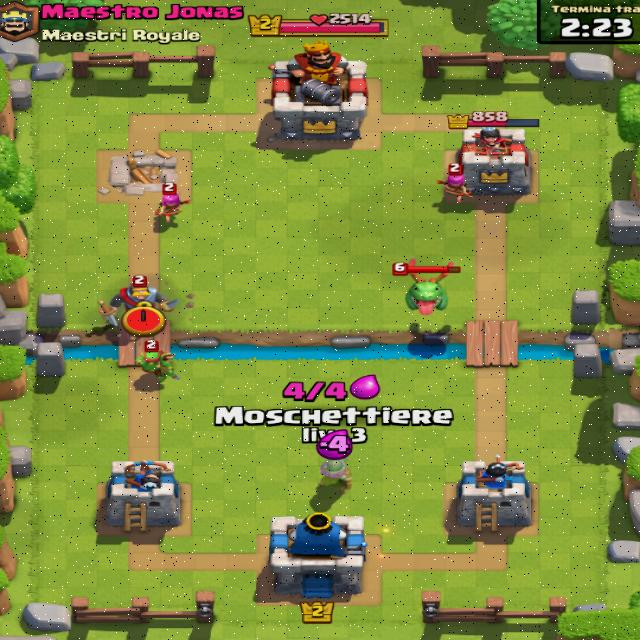Enemy-Archer: (156, 184, 185, 224), (442, 168, 467, 199)
Enemy-BabyDragon: (390, 262, 466, 320)
Enemy-Knight: (98, 273, 184, 328)
Enemy-SpearGoblin: (138, 341, 172, 376)
